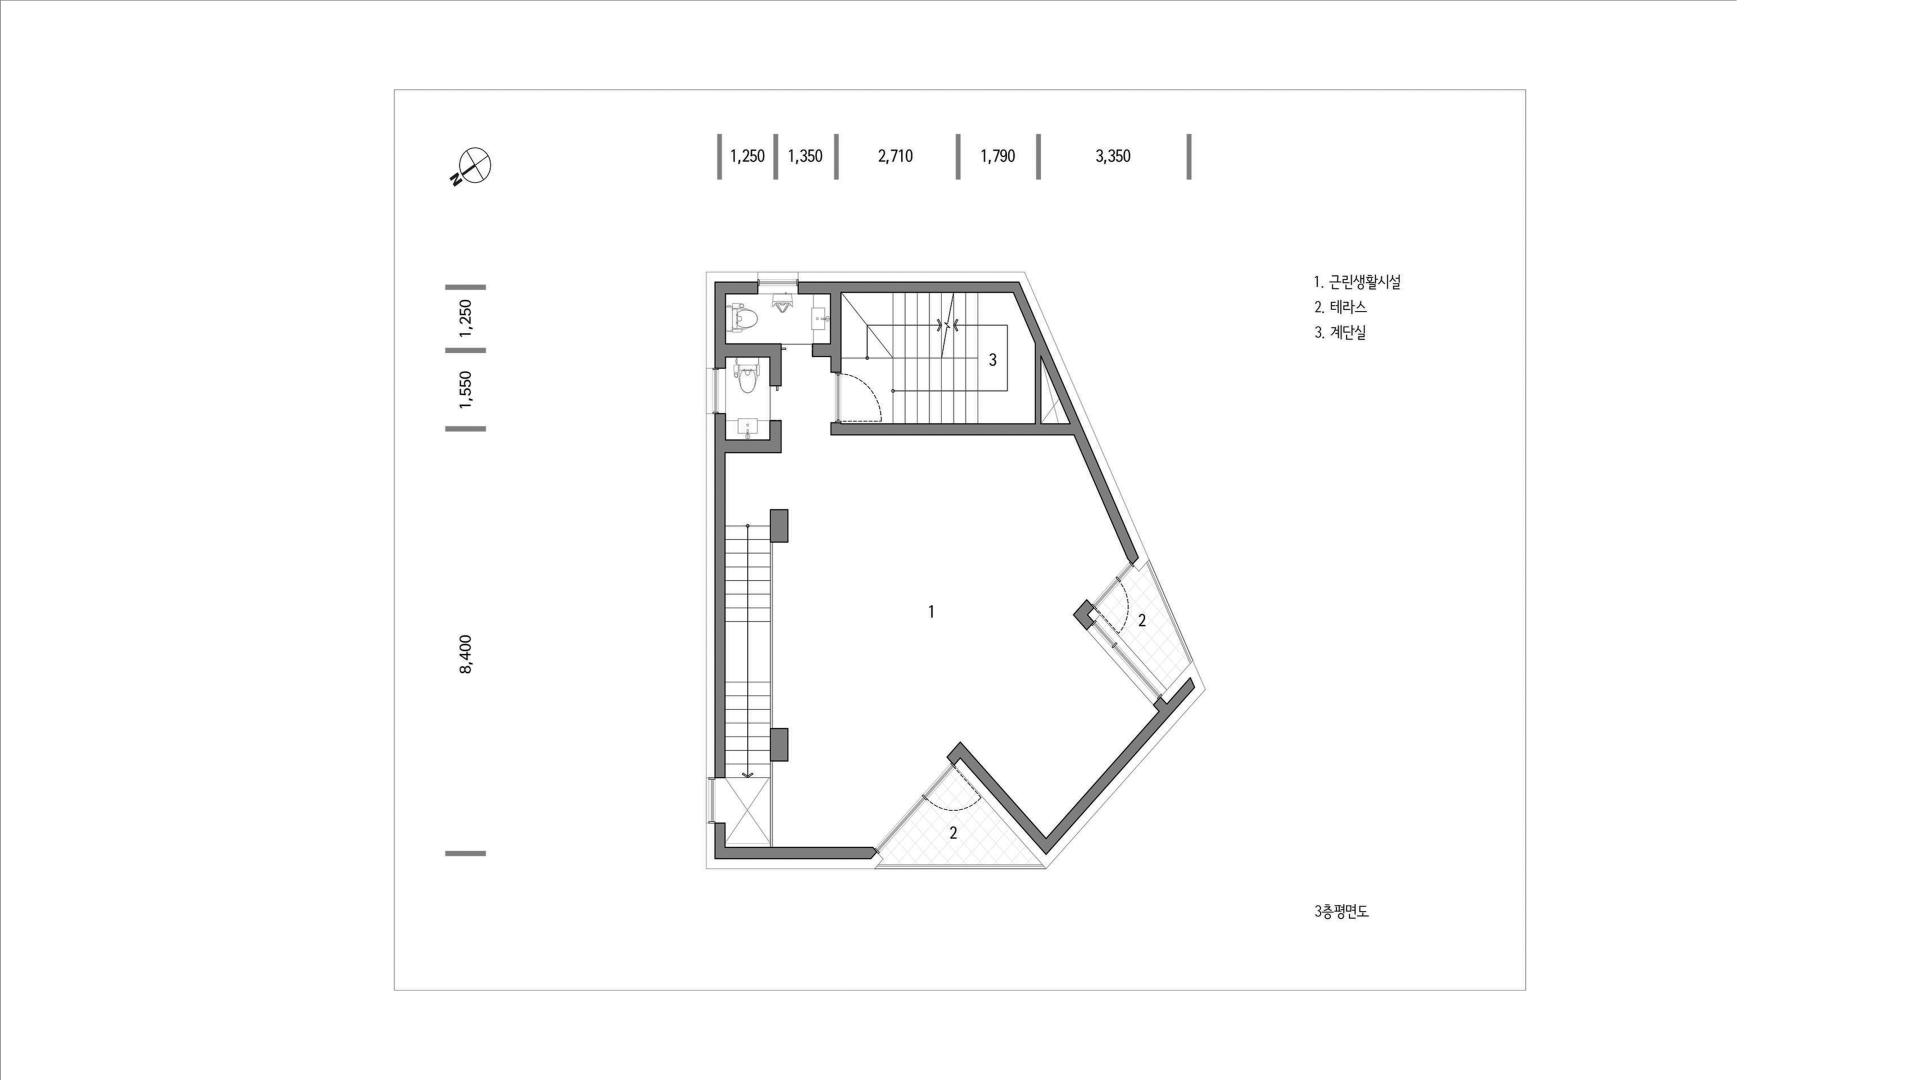door: (922, 762, 982, 822), (1092, 578, 1143, 634), (831, 373, 882, 422), (769, 386, 782, 421), (782, 343, 812, 357)
wall: (1019, 272, 1146, 558), (1046, 680, 1205, 862), (1038, 676, 1195, 856), (953, 760, 1052, 869), (952, 741, 1046, 847), (1073, 435, 1139, 564), (1146, 559, 1193, 663), (715, 414, 727, 778), (705, 414, 715, 778), (1042, 340, 1081, 423), (831, 423, 1087, 435), (715, 847, 877, 860), (841, 281, 1019, 293), (798, 272, 1025, 281), (1013, 281, 1044, 343), (715, 860, 874, 869), (1160, 667, 1191, 703), (715, 281, 727, 369), (829, 294, 841, 373), (705, 281, 715, 369), (727, 439, 782, 454), (770, 509, 789, 543), (770, 728, 789, 762), (727, 343, 769, 357), (769, 343, 782, 386), (798, 281, 841, 294), (1035, 340, 1042, 423), (1073, 599, 1095, 624), (705, 272, 758, 281), (770, 543, 773, 728), (877, 864, 1044, 866), (1187, 661, 1203, 688), (705, 823, 715, 869), (727, 281, 758, 294), (1133, 551, 1149, 571), (812, 343, 831, 357), (769, 419, 782, 439), (715, 823, 725, 847), (1080, 615, 1095, 630), (1153, 696, 1167, 712), (870, 852, 884, 869), (770, 762, 773, 847), (945, 750, 960, 765)
window: (1087, 615, 1167, 704), (874, 795, 926, 853), (705, 369, 719, 414), (705, 778, 715, 823), (1116, 562, 1134, 583), (758, 280, 798, 286)
